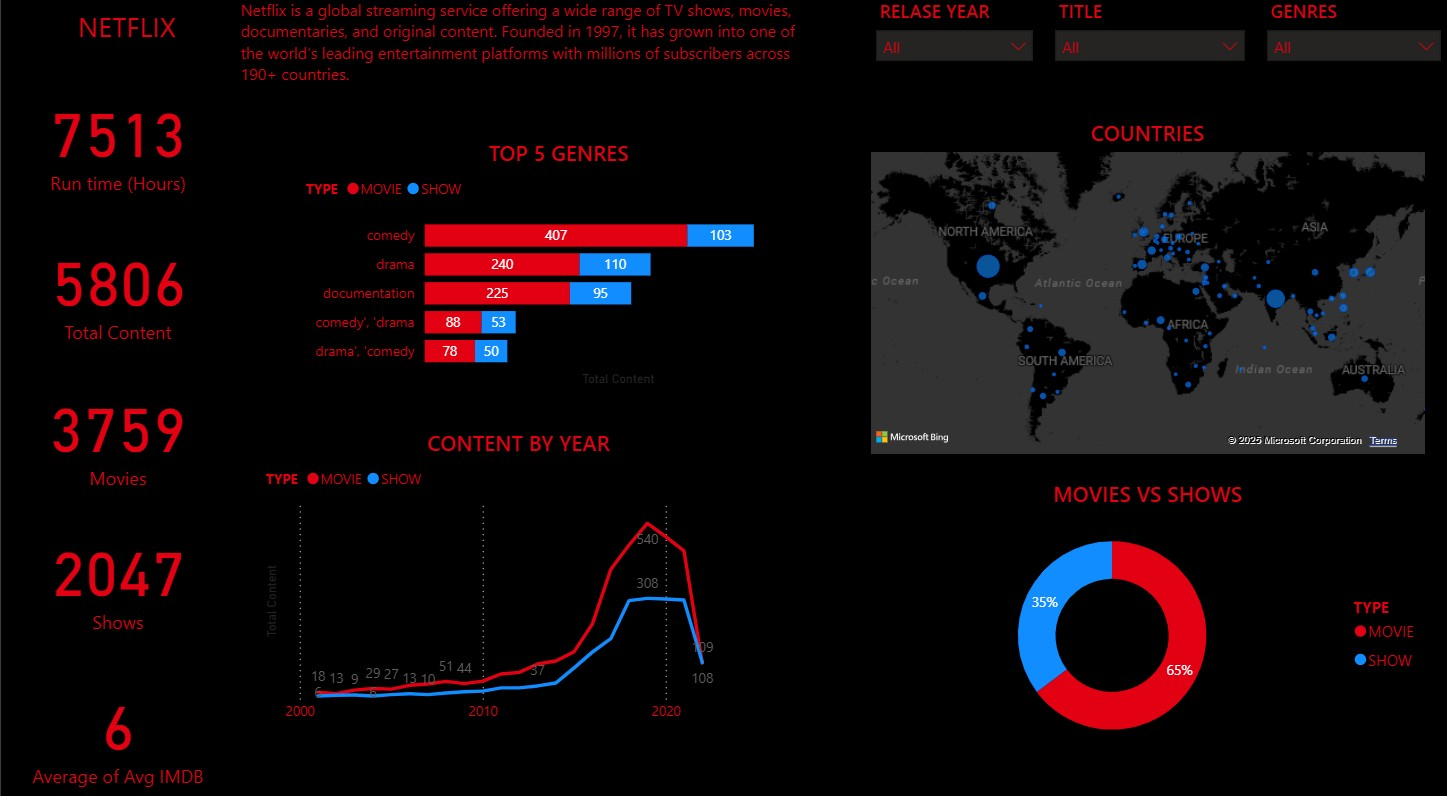

This screenshot's page, from the dashboard's own definition file:
{"tool":"powerbi","page":{"name":"EXE DASH","canvas":[1280,720],"ordinal":0},"visuals":[{"type":"card","fields":{"Values":["credits.Run time (Hours)"]},"box":[0,64.5,206.6,129],"z":0},{"type":"card","fields":{"Values":["credits.Total Content"]},"box":[0,201.6,206.6,117.9],"z":1000},{"type":"card","fields":{"Values":["credits.Movies"]},"box":[0,327.6,206.6,124],"z":2000},{"type":"card","fields":{"Values":["credits.Shows"]},"box":[0,457.6,206.6,117.9],"z":3000},{"type":"card","fields":{"Values":["Avg(credits.Avg IMDB)"]},"box":[0,584.6,206.6,135.1],"z":4000},{"type":"barChart","title":"TOP 5 GENRES","fields":{"Category":["titles.genres"],"Y":["credits.Total Content"],"Series":["titles.type"]},"box":[264.1,128,456.6,222.7],"z":5000},{"type":"lineChart","title":"CONTENT BY YEAR","fields":{"Category":["titles.release_year"],"Y":["credits.Total Content"],"Series":["titles.type"]},"box":[228.8,384,456.6,268.1],"z":6000},{"type":"map","title":"COUNTRIES","fields":{"Category":["titles.production_countries"],"Size":["credits.Run time (Hours)"]},"box":[762,109.9,498.9,301.4],"z":7000},{"type":"donutChart","title":"MOVIES VS SHOWS","fields":{"Category":["titles.type"],"Y":["credits.Total Content"]},"box":[762,428.3,498.9,251],"z":8000},{"type":"slicer","fields":{"Values":["titles.release_year"]},"box":[762,0,158.2,88.7],"z":9000},{"type":"slicer","fields":{"Values":["titles.title"]},"box":[920.5,0,186.7,88.3],"z":10000},{"type":"slicer","fields":{"Values":["titles.genres"]},"box":[1107.1,0,172.9,88.3],"z":11000},{"type":"textbox","box":[206.6,0,501.9,88.7],"z":12000},{"type":"textbox","box":[15.9,8.4,190.4,56],"z":13000}]}

Visuals, with their boxes in screenshot pixels (x1, y1, x2, y2), scaled from the page's 1280x720 canvas onto the 1447x796 screenshot:
card - credits.Run time (Hours): [0, 71, 234, 214]
card - credits.Total Content: [0, 223, 234, 353]
card - credits.Movies: [0, 362, 234, 499]
card - credits.Shows: [0, 506, 234, 636]
card - Avg(credits.Avg IMDB): [0, 646, 234, 795]
"TOP 5 GENRES" barChart: [299, 142, 815, 388]
"CONTENT BY YEAR" lineChart: [259, 425, 775, 721]
"COUNTRIES" map: [861, 122, 1425, 455]
"MOVIES VS SHOWS" donutChart: [861, 474, 1425, 751]
slicer - titles.release_year: [861, 0, 1040, 98]
slicer - titles.title: [1041, 0, 1252, 98]
slicer - titles.genres: [1252, 0, 1446, 98]
textbox: [234, 0, 801, 98]
textbox: [18, 9, 233, 71]
